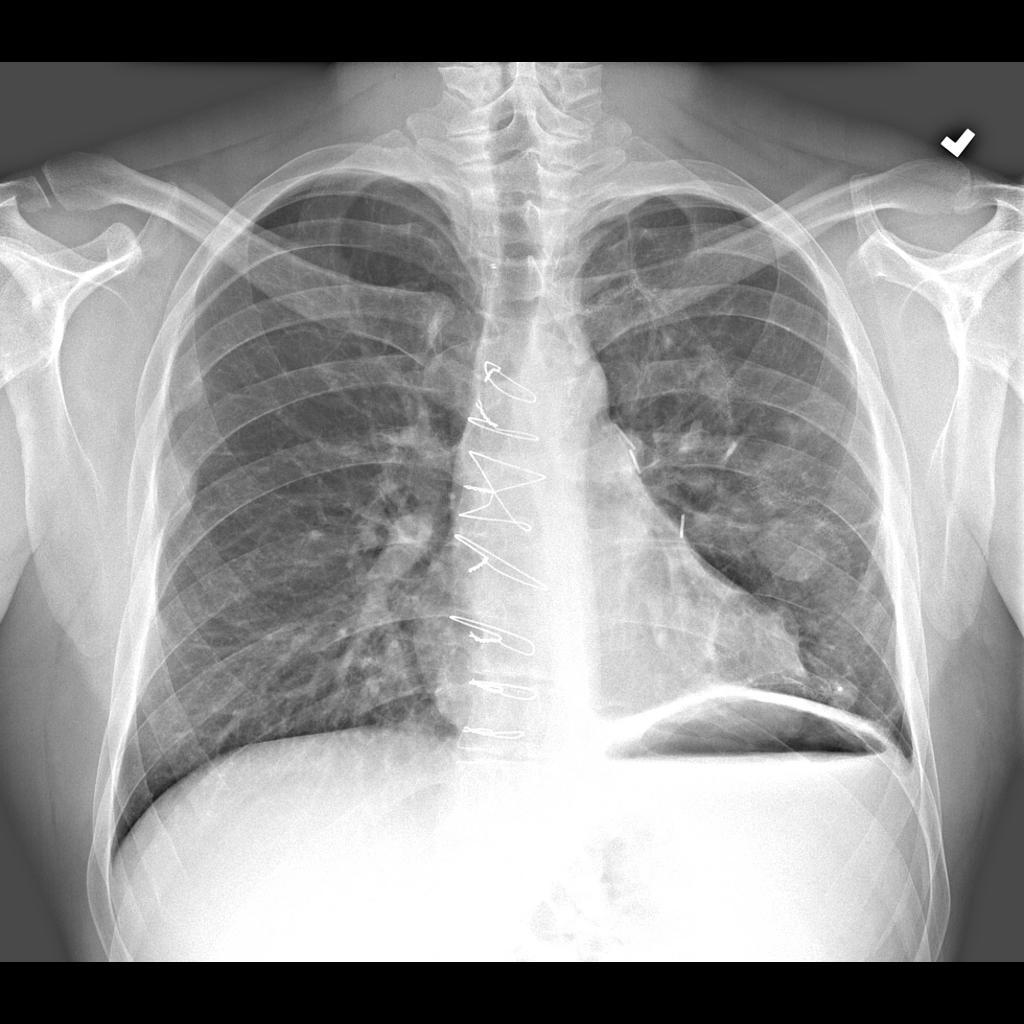Nodule: (754, 502, 830, 597), (826, 670, 861, 715)
